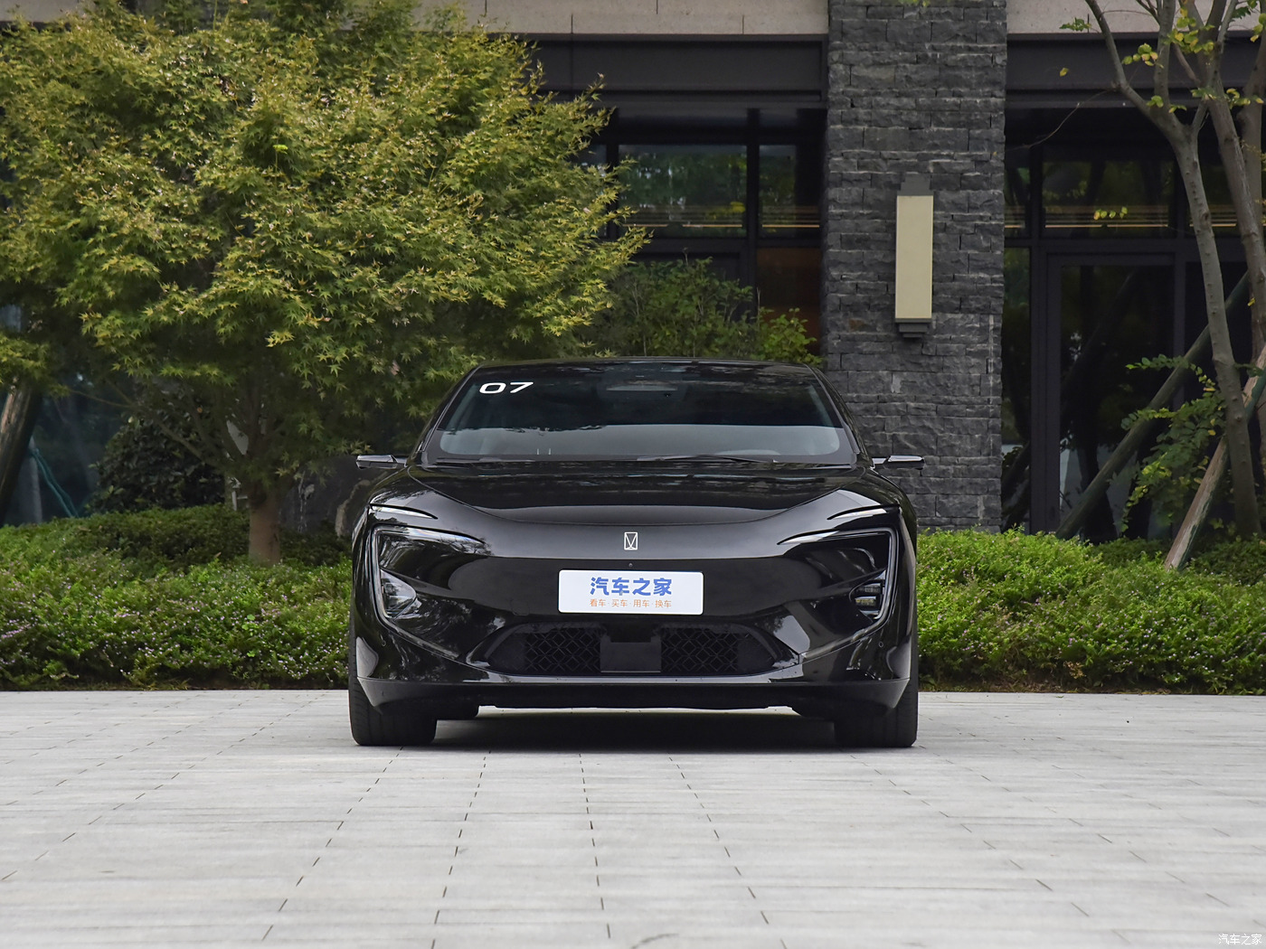AVATR: (624, 532, 638, 550)
